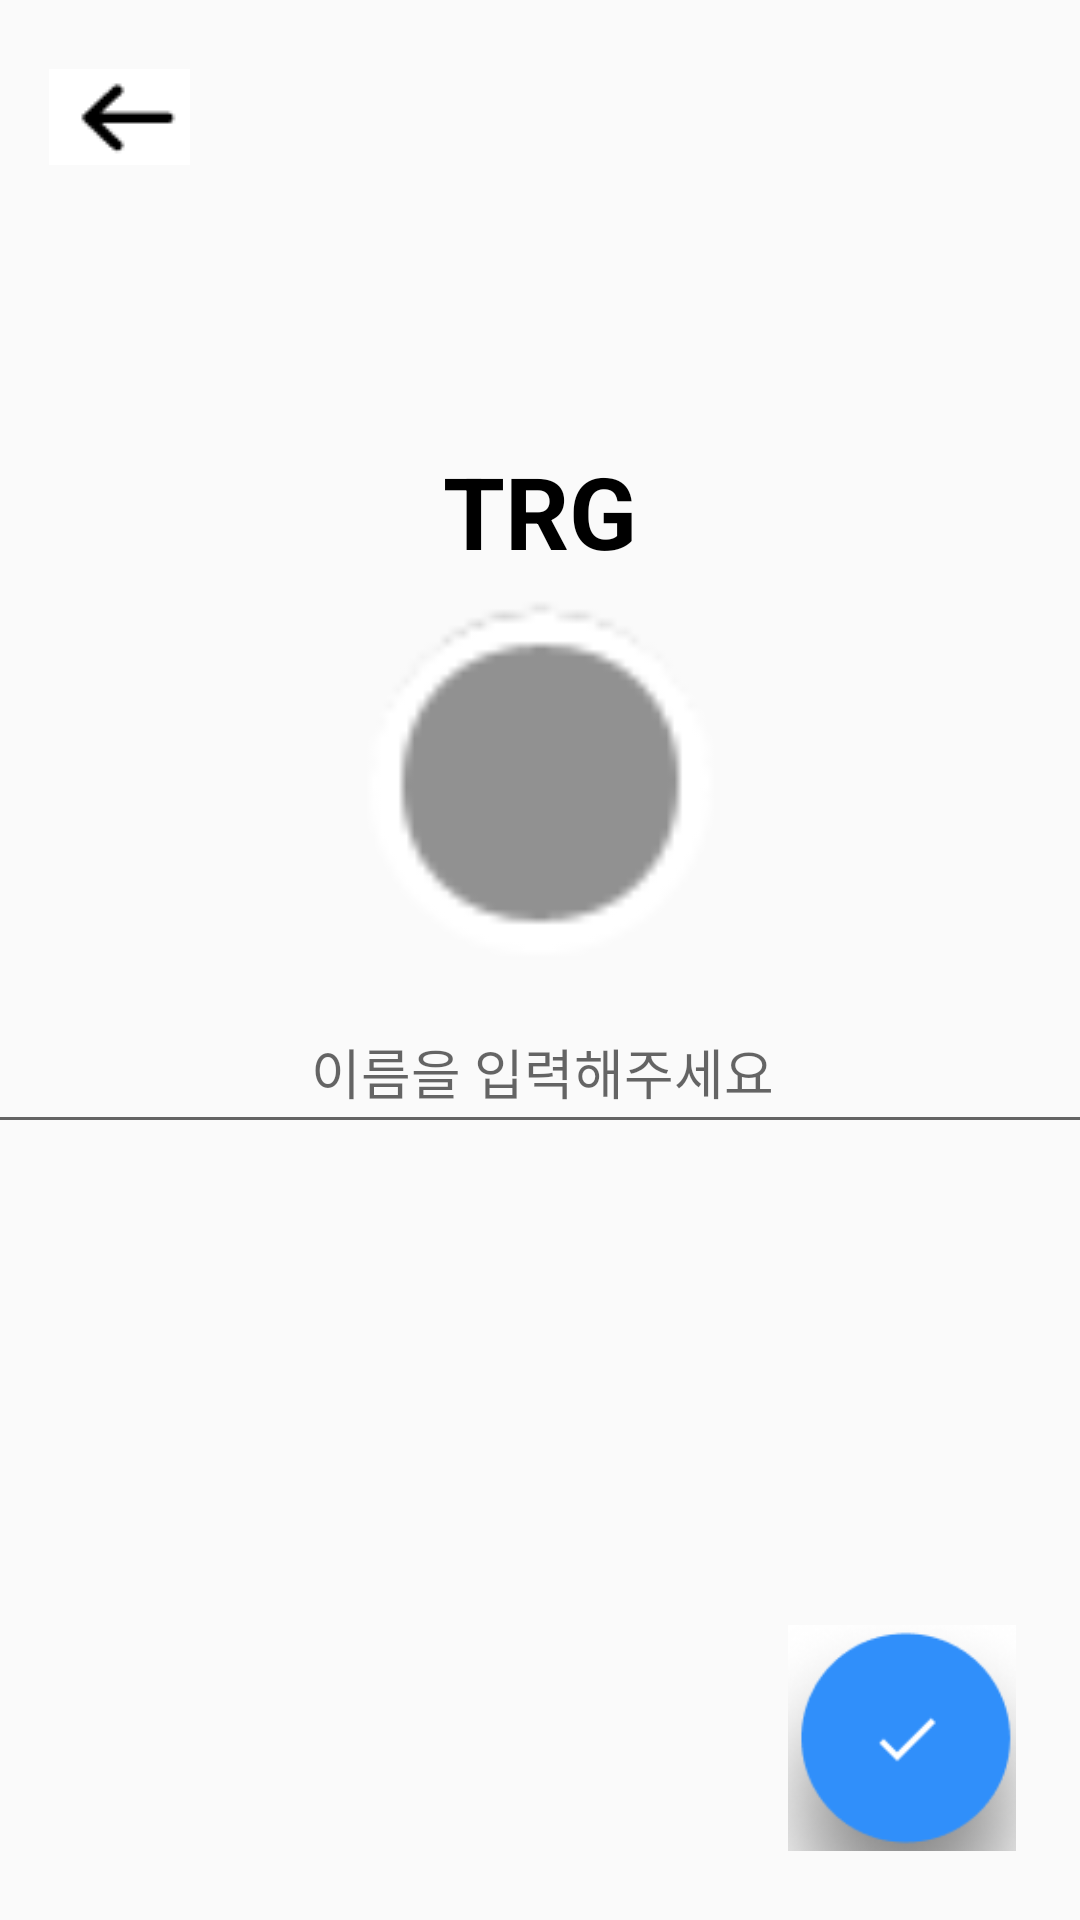

Named icons in this screenshot (1080px x 1920px) and their centers, [x,y]:
back: [128,117]
check: [902,1741]
